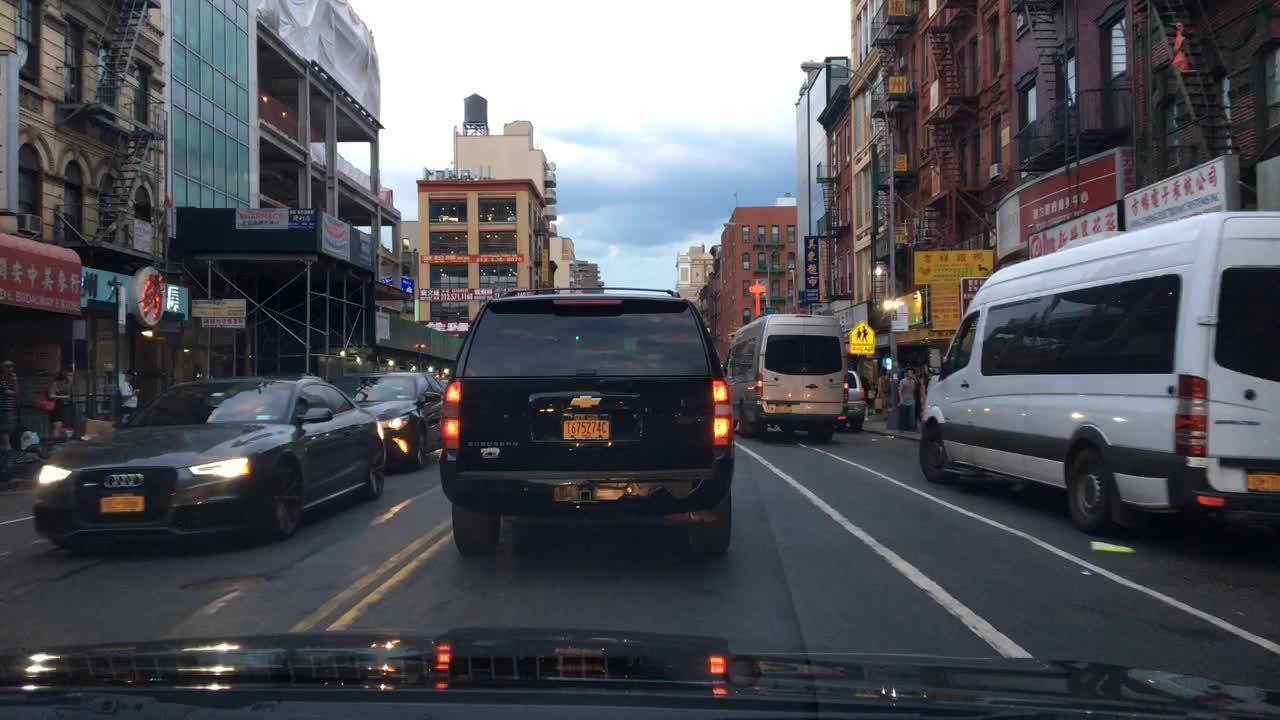Audi: (98, 460, 145, 495)
chevrolet: (569, 388, 609, 409)
